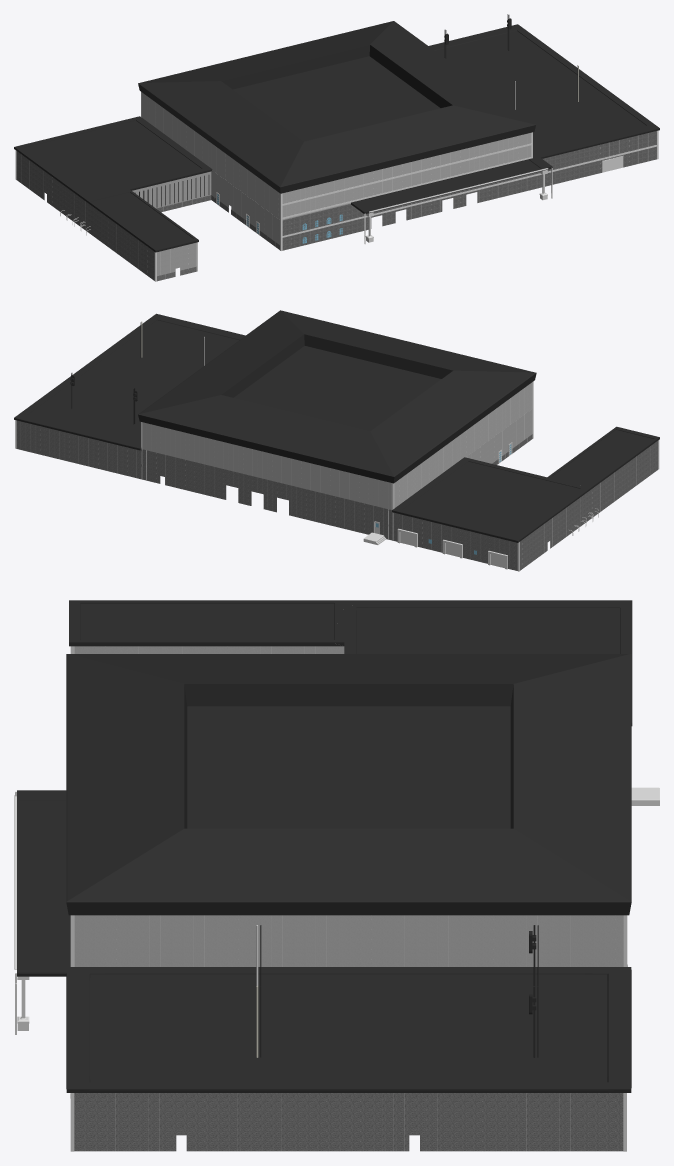
The model's file is superstore.zfix-v1.lod0.glb.
3 views of the same model, one above another, from view 1: azimuth 30°, elevation 25°; view 2: azimuth 150°, elevation 25°; view 3: azimuth 270°, elevation 25° (orthographic). The views are drawn at different scales.
Visible parts, largest first — view 1: Object_21, Object_5, Object_2, Object_8, Object_17; view 2: Object_21, Object_2, Object_5, Object_17, Object_8; view 3: Object_21, Object_2, Object_5, Object_8.
Boxes of the visible parts, x1,y1,x2,y2 form: Object_21: (14, 14, 659, 252); Object_5: (132, 92, 531, 276); Object_2: (16, 131, 656, 281); Object_8: (15, 81, 658, 281); Object_17: (44, 155, 623, 275); Object_21: (14, 310, 659, 542); Object_2: (17, 420, 658, 570); Object_5: (142, 382, 532, 509); Object_17: (226, 442, 598, 569); Object_8: (15, 337, 659, 571); Object_21: (17, 600, 632, 1092); Object_2: (74, 1093, 623, 1151); Object_5: (74, 646, 623, 966); Object_8: (14, 646, 627, 1151).
Size of the model in its own units: 150 by 21.46 by 83.09.
7 materials, 2 textured.
